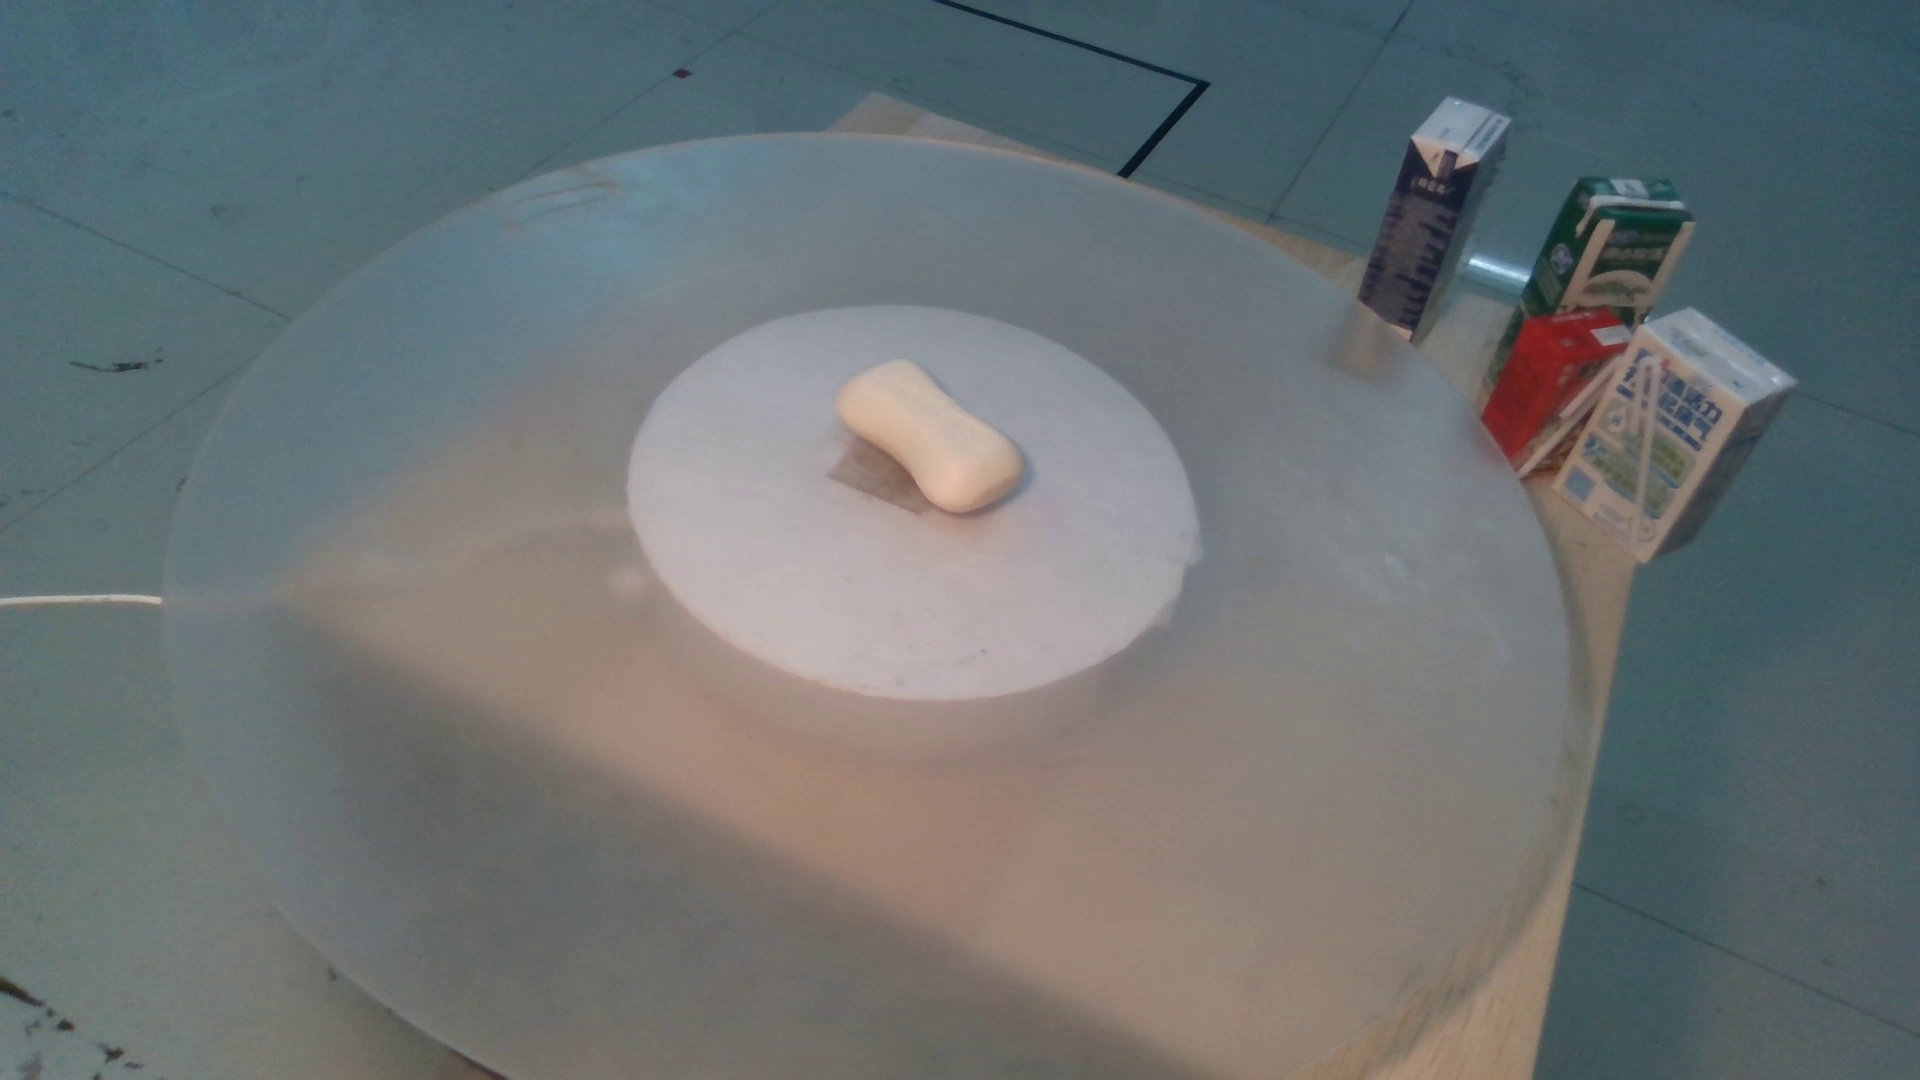CA003_1: (793, 343, 1077, 529)
